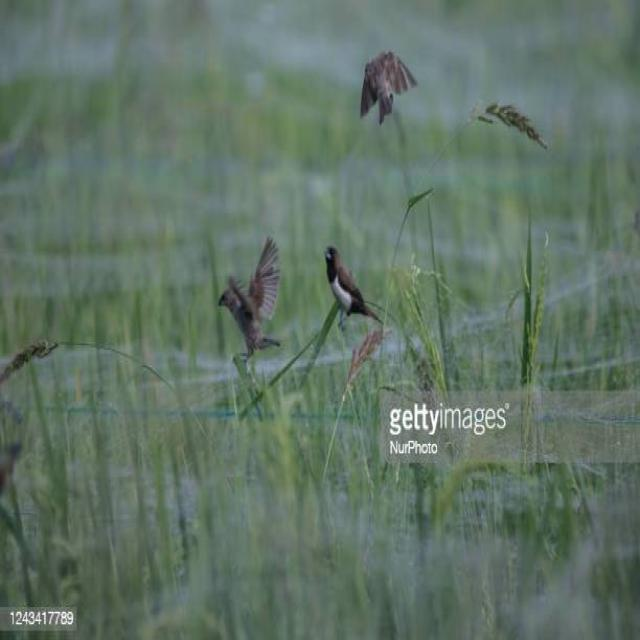bird: (213, 236, 284, 360), (354, 47, 421, 126), (320, 246, 380, 324)
